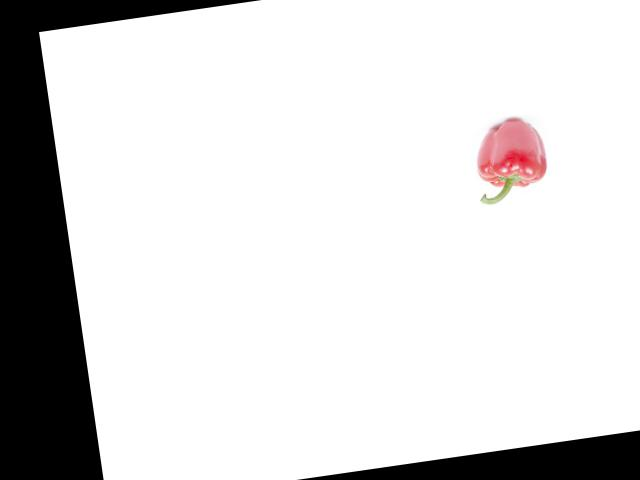bell_pepper: (465, 112, 557, 207)
